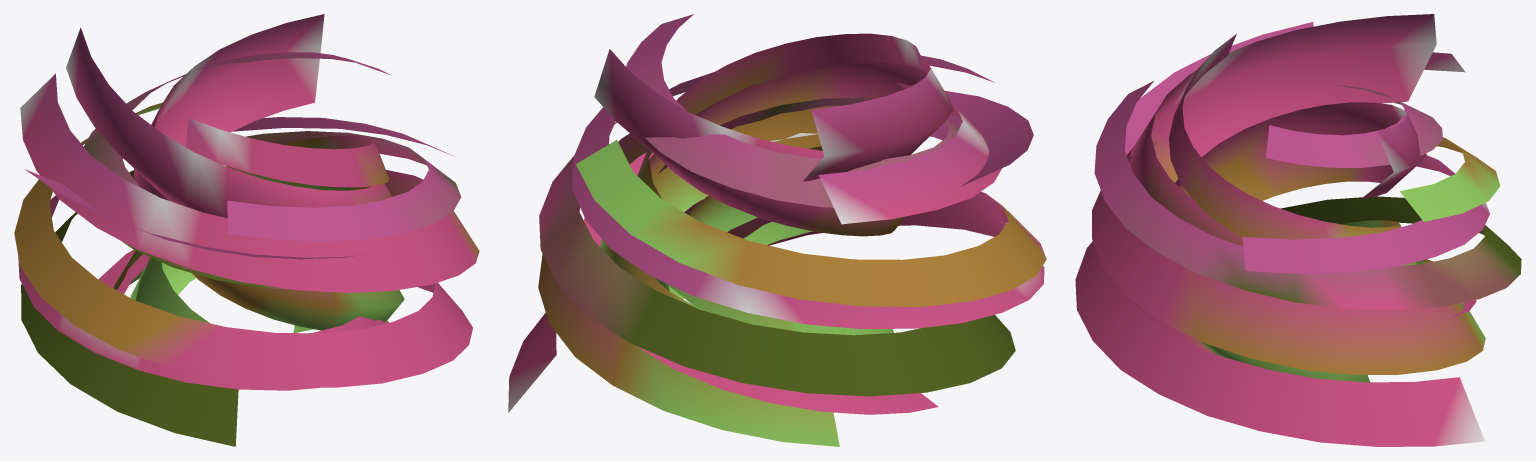
The model's file is Mod_LG_007.FBX.
3 renders of one model, left to right at view 1: azimuth 30°, elevation 25°; view 2: azimuth 150°, elevation 25°; view 3: azimuth 270°, elevation 25°, orthographic. The views are drawn at different scales.
Parts seen in each view (by area): view 1: E3D-Curve-Helix15; view 2: E3D-Curve-Helix15; view 3: E3D-Curve-Helix15.
Boxes of the visible parts, box(x1,y1,x2,y2) form: E3D-Curve-Helix15: box(14, 14, 479, 446); E3D-Curve-Helix15: box(508, 14, 1046, 446); E3D-Curve-Helix15: box(1075, 14, 1521, 446).
Bounding box in the file's own units: 602 × 439 × 575.
